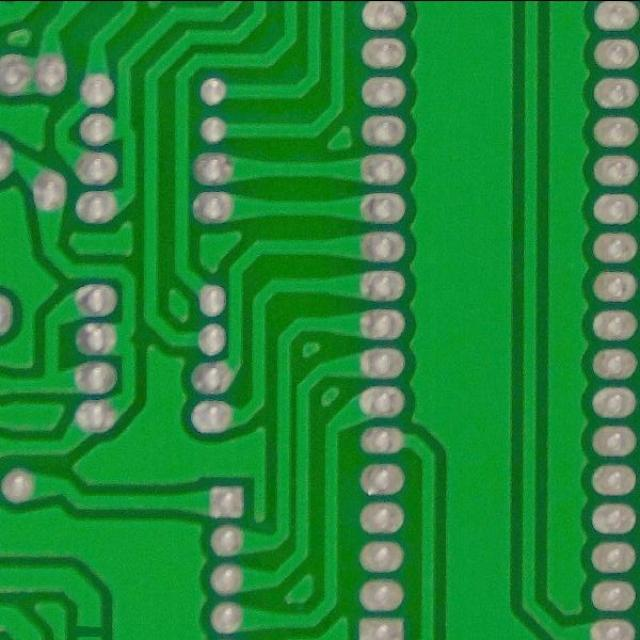Open_Circuit: (63, 614, 113, 640)
